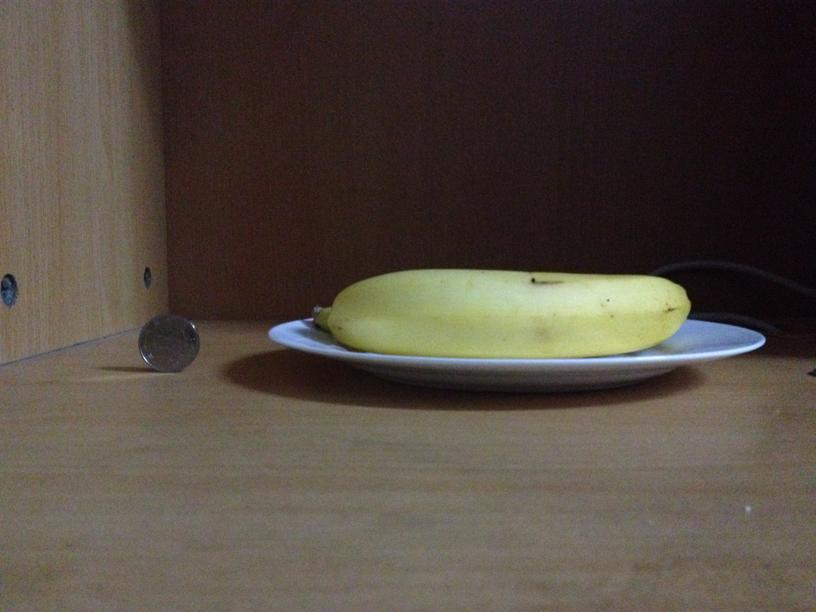banana: (323, 266, 688, 352)
coin: (135, 310, 201, 373)
